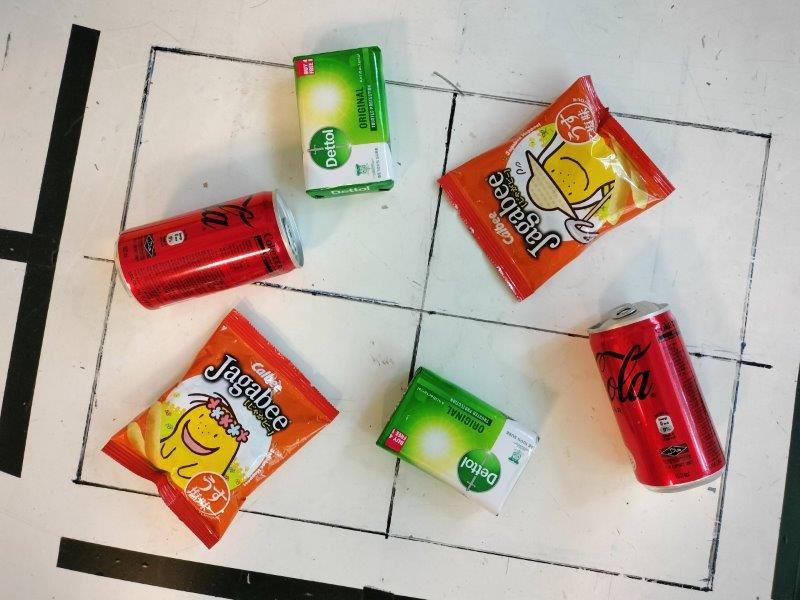Coke: (586, 297, 727, 493), (114, 189, 306, 314)
Dettol: (373, 364, 541, 515), (292, 47, 396, 201)
Jagabee: (101, 311, 338, 550), (437, 75, 677, 299)
